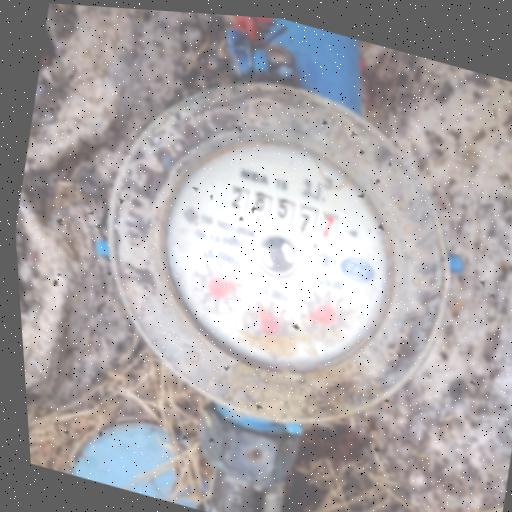2: (226, 186, 251, 214)
5: (272, 196, 294, 225)
7: (295, 205, 320, 234), (319, 211, 341, 240)
8: (250, 192, 275, 221)
border_water_meter_number: (217, 178, 349, 247)
